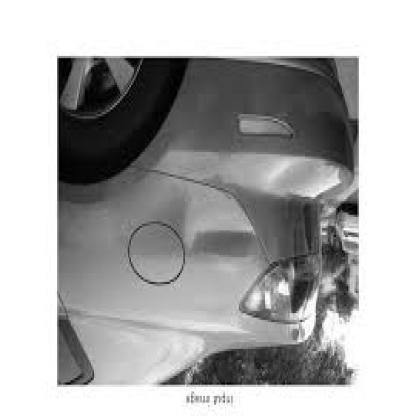dent: (184, 196, 260, 262)
